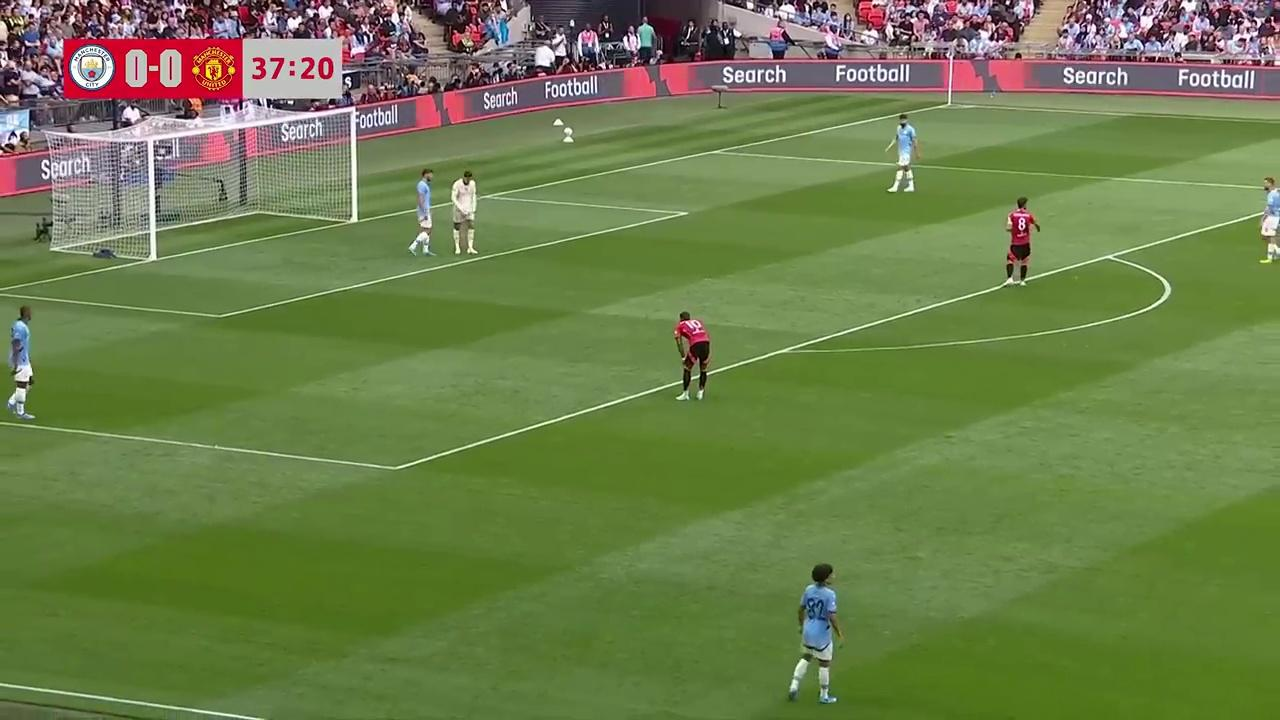player: (787, 563, 844, 705), (674, 311, 711, 402), (8, 306, 36, 420), (1004, 197, 1040, 285), (409, 167, 436, 256), (451, 170, 478, 256), (1257, 173, 1280, 266), (887, 124, 916, 194)
